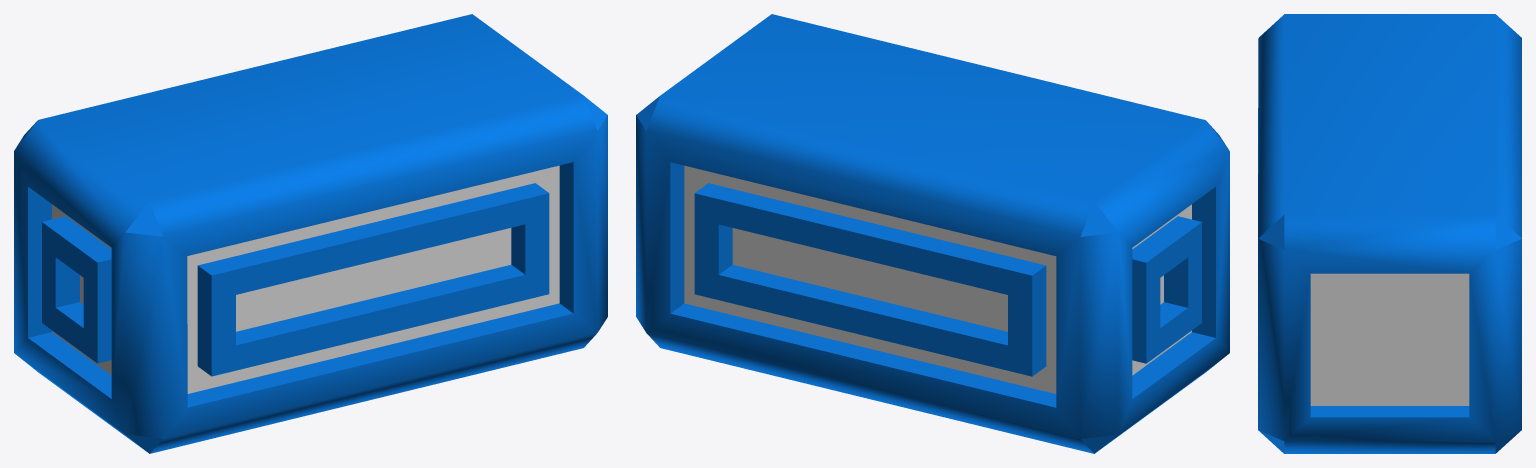
Rendered from gravity_platform_x2.fbx.
3 renders of one model, left to right at view 1: azimuth 30°, elevation 25°; view 2: azimuth 150°, elevation 25°; view 3: azimuth 270°, elevation 25°, orthographic. The views are drawn at different scales.
Parts seen in each view (by area): view 1: beveled_cube11, core; view 2: beveled_cube11, core; view 3: beveled_cube11, core.
Boxes of the visible parts, x1,y1,x2,y2 form: beveled_cube11: (14,14,607,453); core: (52,165,559,393); beveled_cube11: (636,14,1229,453); core: (684,165,1191,393); beveled_cube11: (1258,14,1521,453); core: (1310,273,1469,405).
Bounding box in the file's own units: 20 × 10 × 10.
